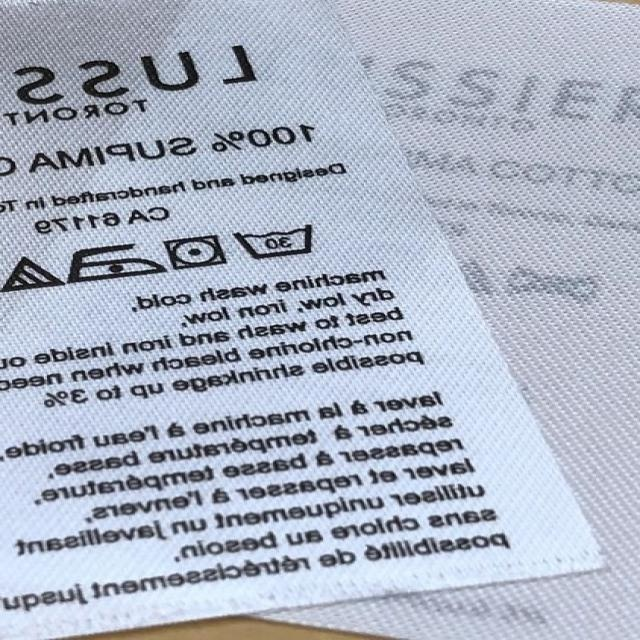30C: (229, 217, 319, 263)
iron_low: (62, 236, 161, 281)
non_chlorine_bleach: (2, 252, 61, 293)
tumble_dry_low: (161, 228, 225, 273)
